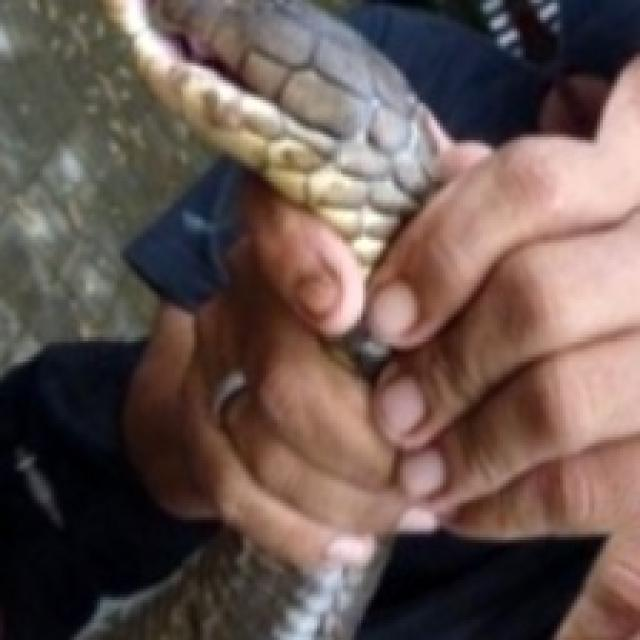king cobra: (80, 0, 477, 637)
